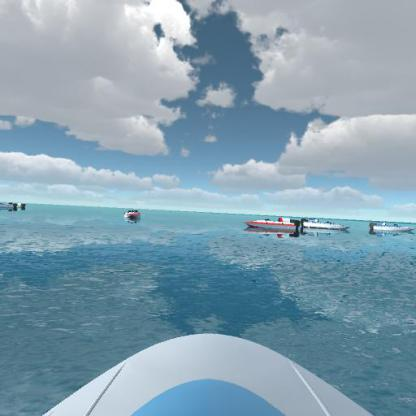usv0: (16, 198, 30, 209)
usv1: (301, 212, 350, 235), (367, 216, 413, 238), (1, 196, 21, 213)
usv3: (243, 214, 302, 239), (123, 206, 145, 225)
